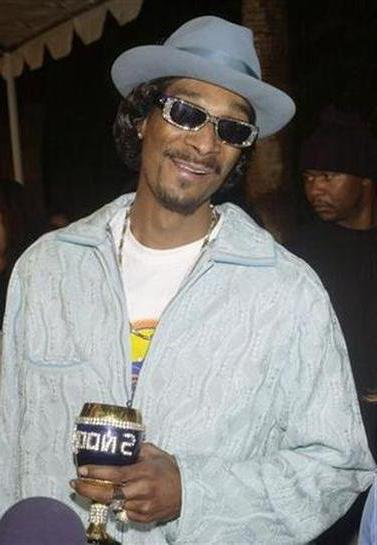Drunk: (152, 83, 245, 206)
